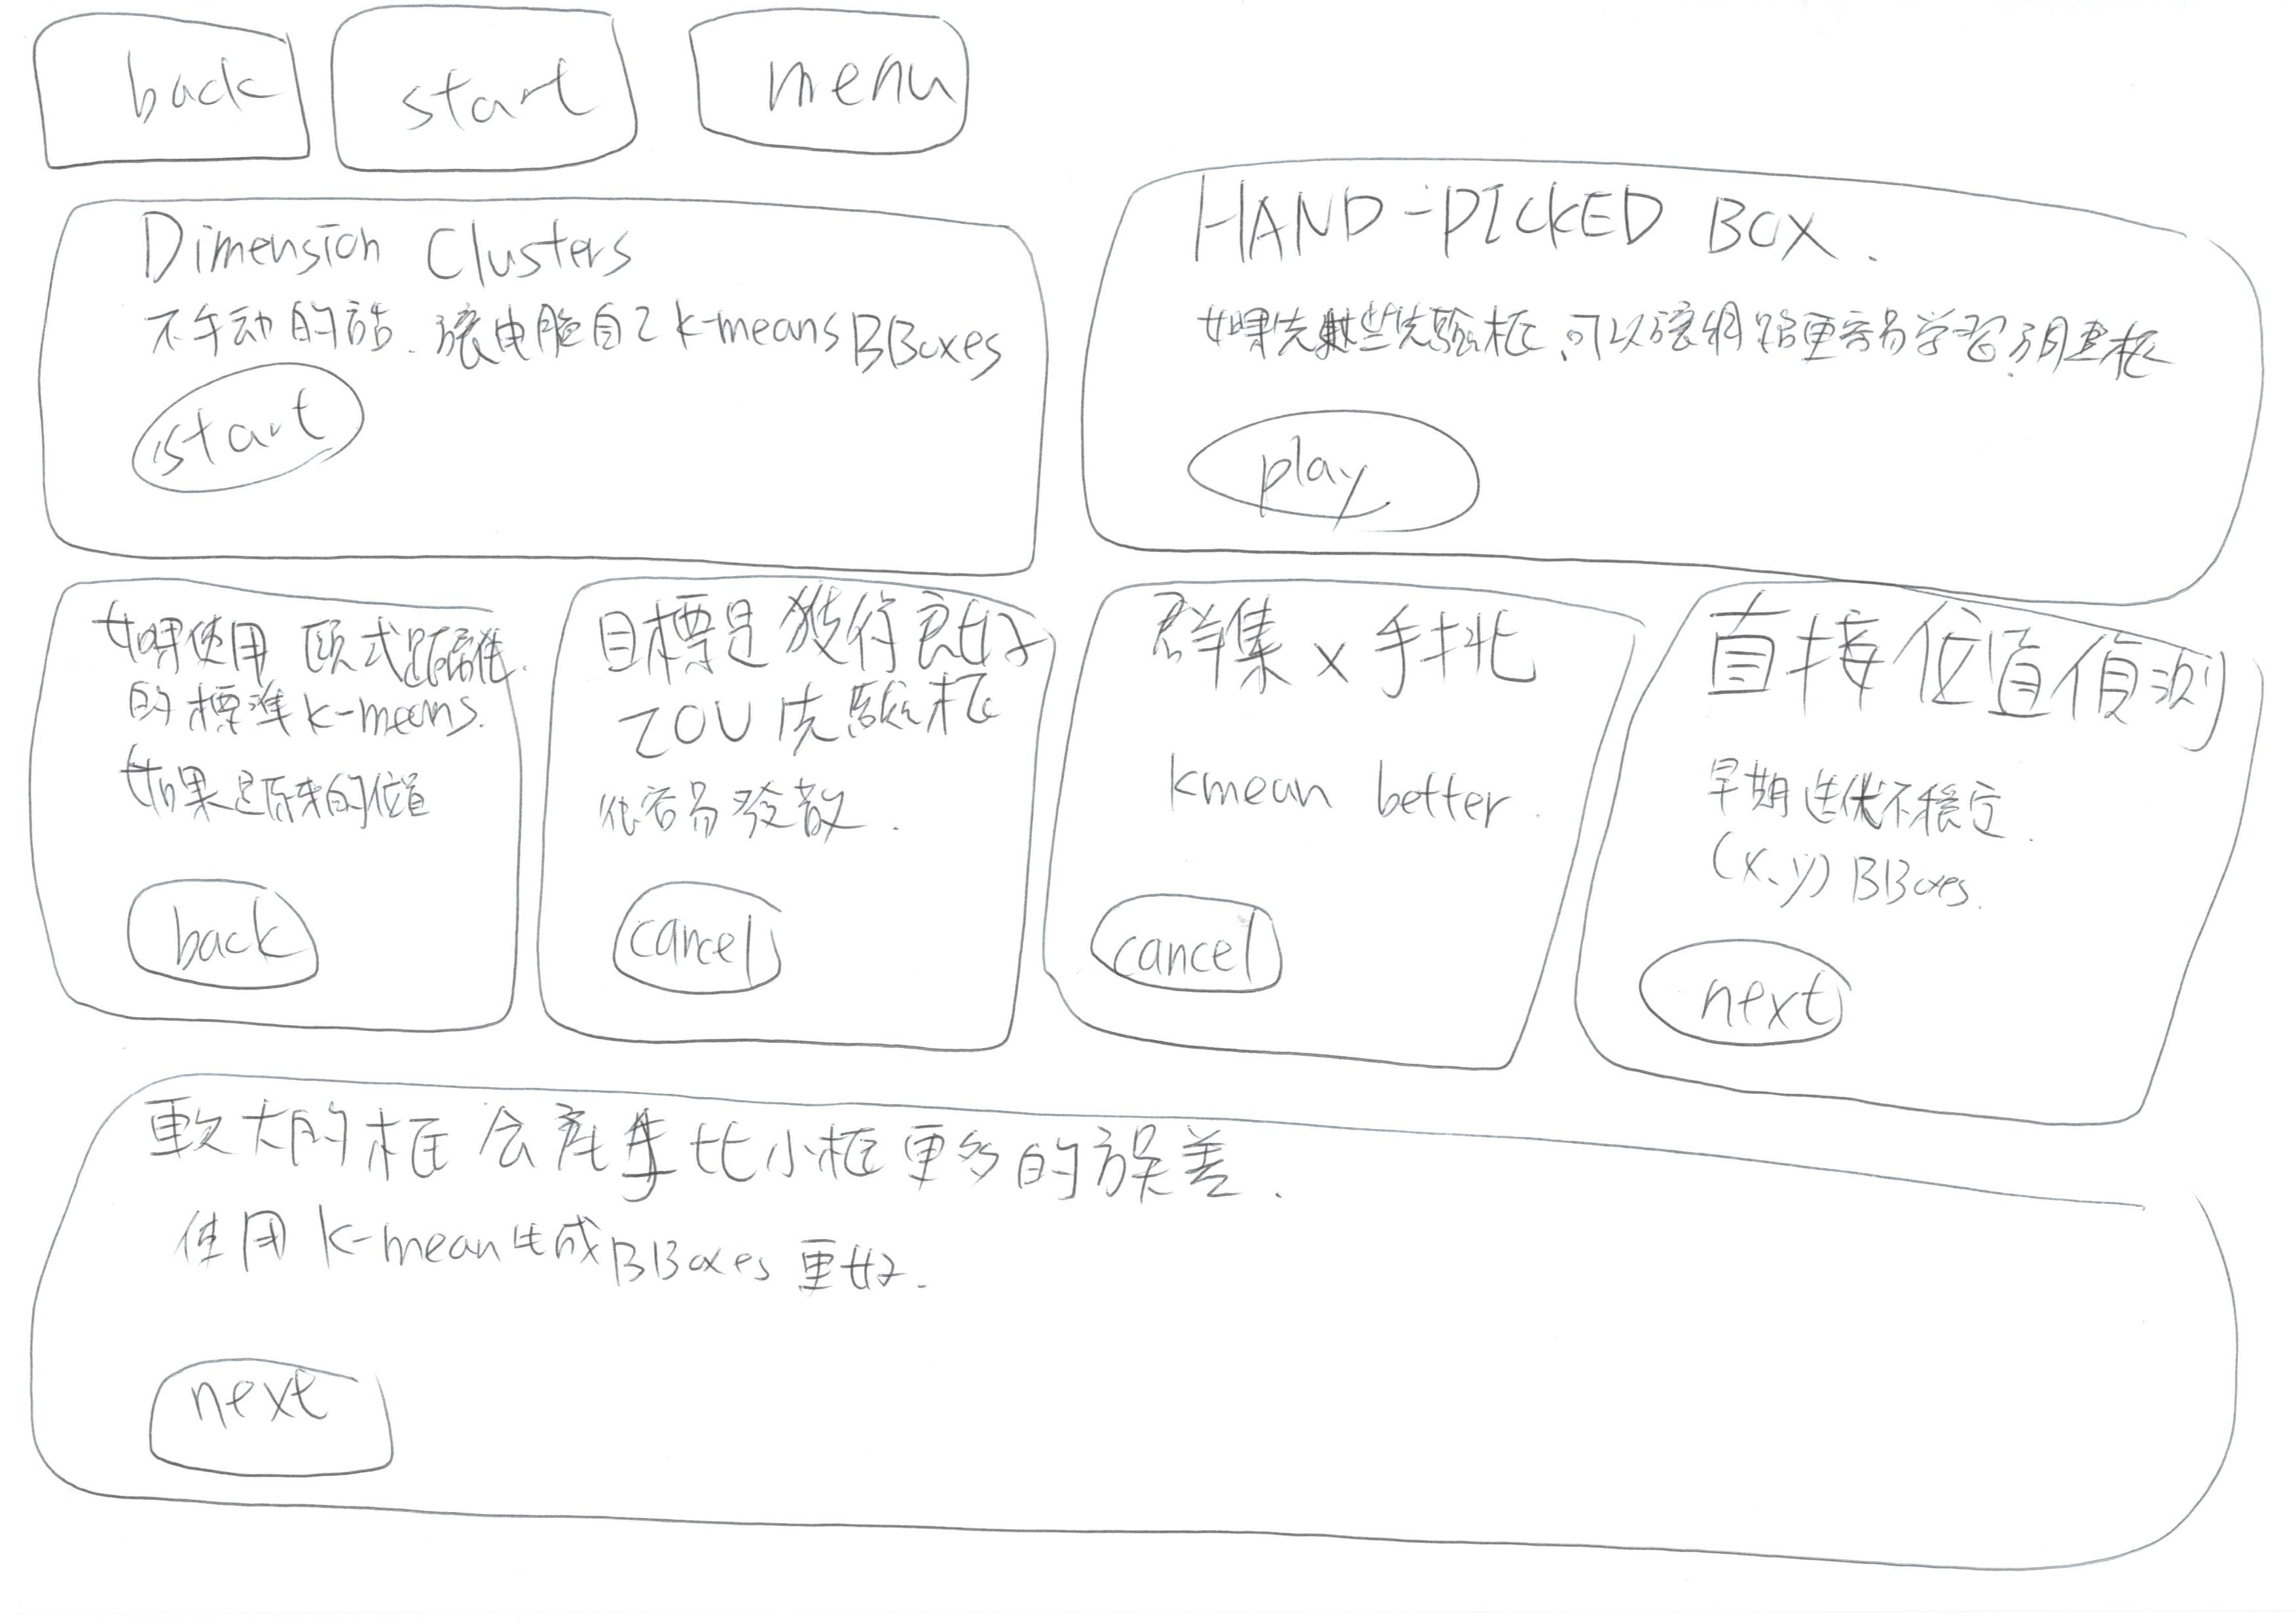back: (14, 4, 316, 188), (111, 877, 360, 1004)
cancel: (1074, 870, 1317, 1019), (578, 875, 812, 1005)
double: (1060, 151, 2296, 608), (14, 174, 1079, 596)
menu: (680, 0, 1016, 179)
next: (118, 1320, 432, 1494), (1626, 924, 1902, 1051)
play: (1155, 406, 1486, 552)
quadruple: (1521, 547, 2296, 1146), (1020, 566, 1638, 1104), (501, 561, 1071, 1084), (7, 568, 538, 1077)
row: (4, 548, 2296, 1137), (4, 1037, 2296, 1624), (4, 158, 2296, 606), (4, 0, 2296, 213)
single: (7, 1049, 2296, 1580)
small-title: (149, 1100, 1250, 1213), (587, 584, 1034, 780), (1194, 165, 1865, 288), (1705, 606, 2229, 752), (1146, 587, 1554, 736), (100, 606, 501, 752), (116, 195, 654, 290)
start: (318, 0, 658, 181), (114, 352, 387, 529)
text: (179, 1183, 963, 1315), (1181, 292, 2176, 390), (102, 301, 1009, 383), (1665, 756, 2001, 949), (69, 742, 452, 854), (554, 743, 893, 847), (1159, 745, 1533, 835)
